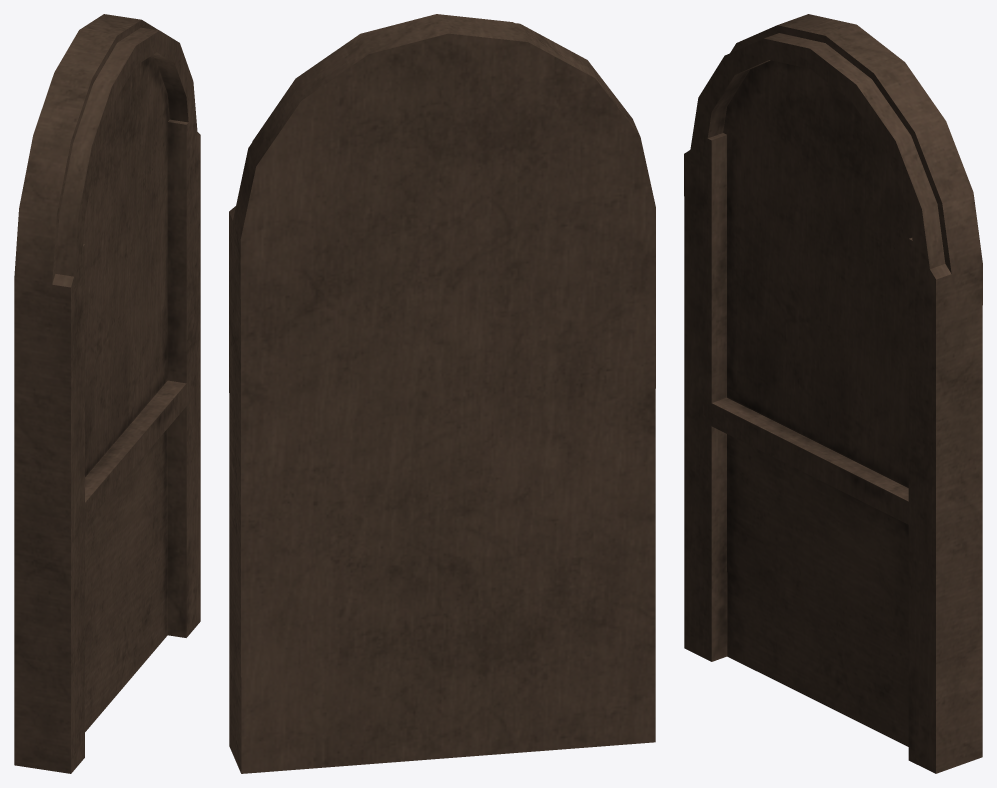
The model's file is puerta.fbx.
The picture shows the model from 3 angles, left to right: view 1: azimuth 30°, elevation 25°; view 2: azimuth 150°, elevation 25°; view 3: azimuth 270°, elevation 25°; orthographic projection. The views are drawn at different scales.
Parts seen in each view (by area): view 1: puerta; view 2: puerta; view 3: puerta.
Boxes of the visible parts, left/top/right/bottom form: puerta: left=14, top=14, right=200, bottom=773; puerta: left=229, top=14, right=655, bottom=773; puerta: left=684, top=14, right=982, bottom=773.
Size of the model in its own units: 306 by 671 by 271.
